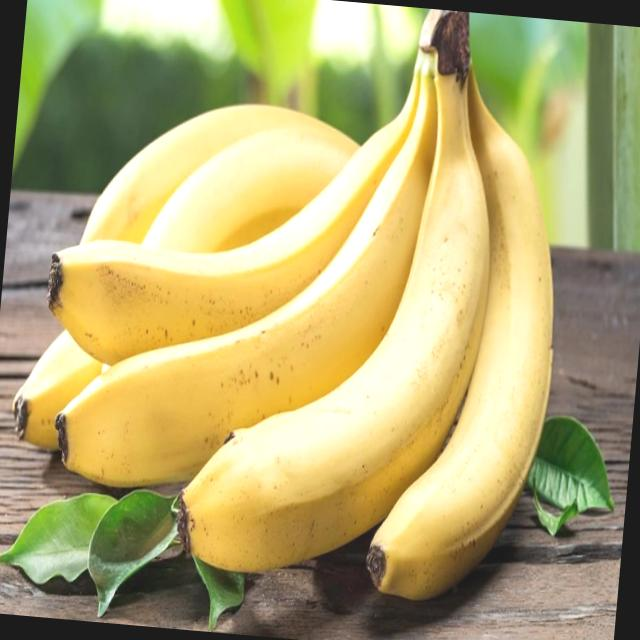chuoi: (13, 8, 553, 596)
